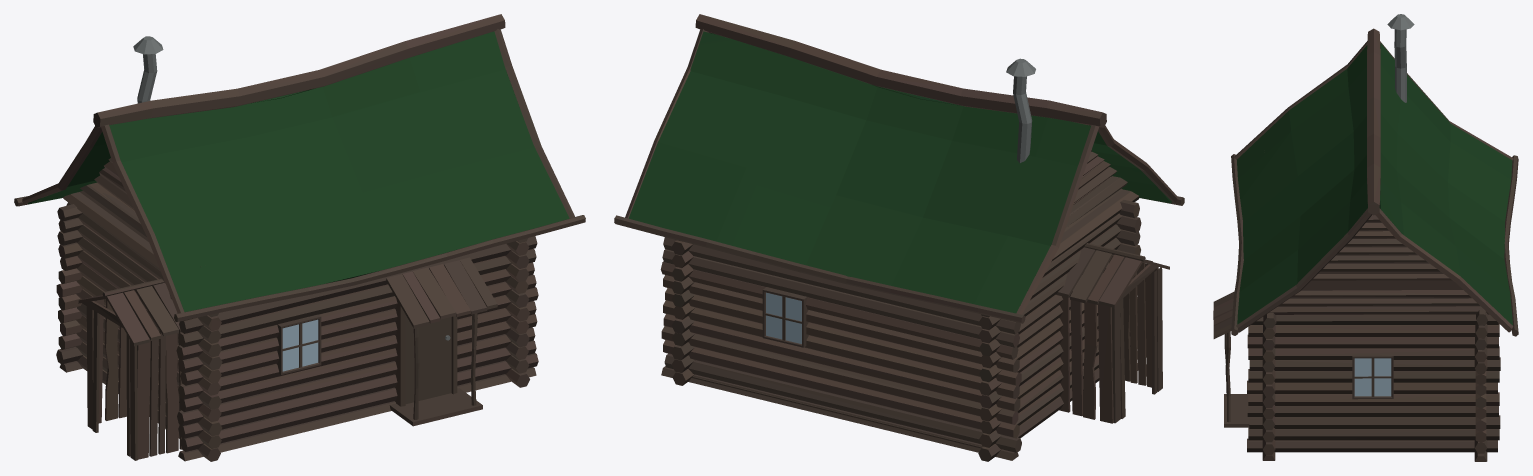
Rendered from cabin.glb.
3 views of the same model, side by side, from view 1: azimuth 30°, elevation 25°; view 2: azimuth 150°, elevation 25°; view 3: azimuth 270°, elevation 25° (orthographic). The views are drawn at different scales.
Visible parts, largest first — view 1: Cabin_shed; view 2: Cabin_shed; view 3: Cabin_shed.
Boxes of the visible parts, x1,y1,x2,y2 form: Cabin_shed: [14, 14, 585, 461]; Cabin_shed: [614, 14, 1184, 461]; Cabin_shed: [1213, 14, 1518, 461].
Size of the model in its own units: 0.4369 by 0.3504 by 0.3096.
